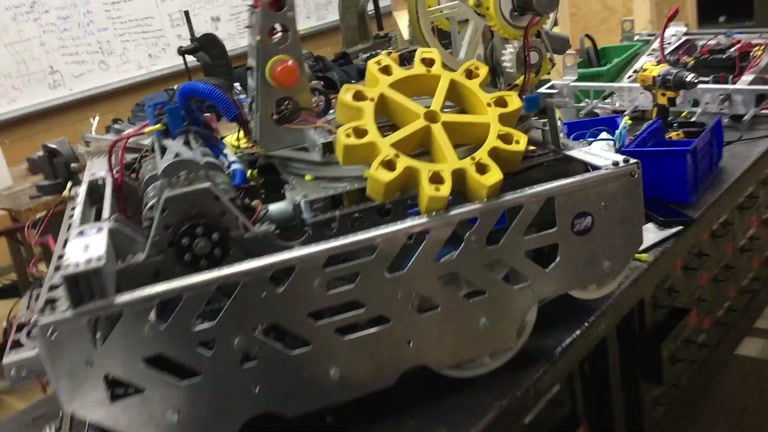gear: (335, 48, 531, 215)
